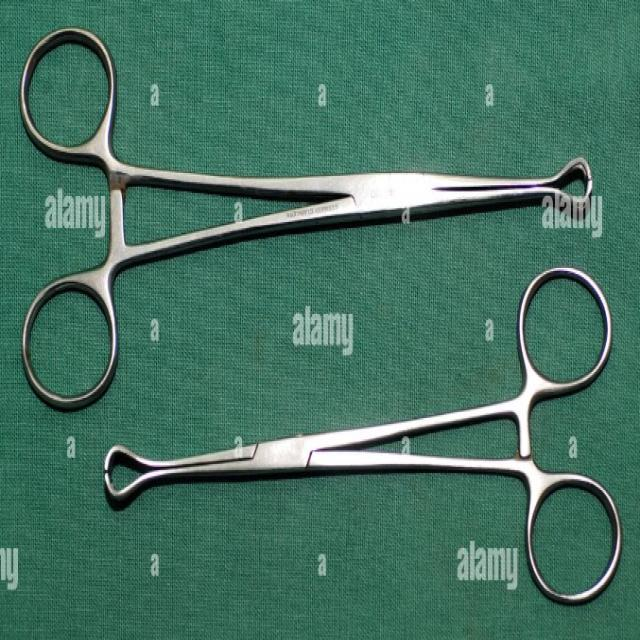Babcock Forceps: (14, 16, 594, 412), (102, 262, 634, 614)
